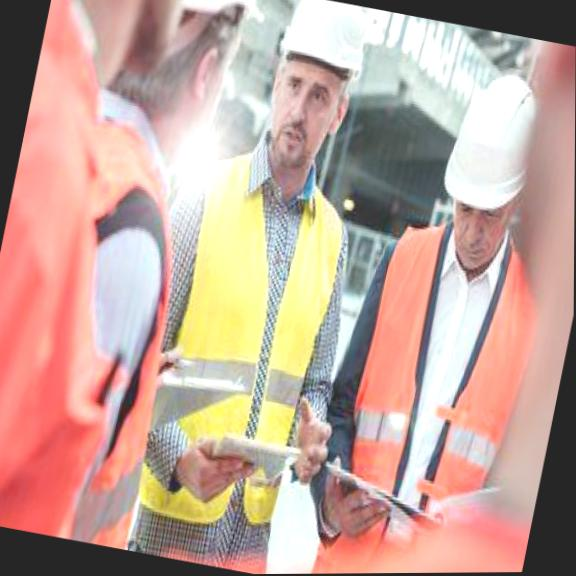safety_vest: (135, 139, 361, 537), (322, 210, 549, 537)
